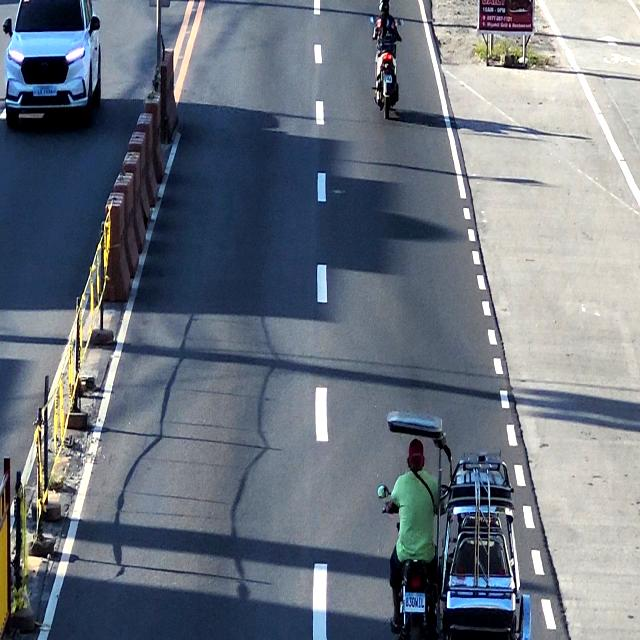License-Plate: (402, 590, 428, 612)
Motorcycle: (371, 0, 398, 116)
Tricycle: (383, 410, 532, 640)
